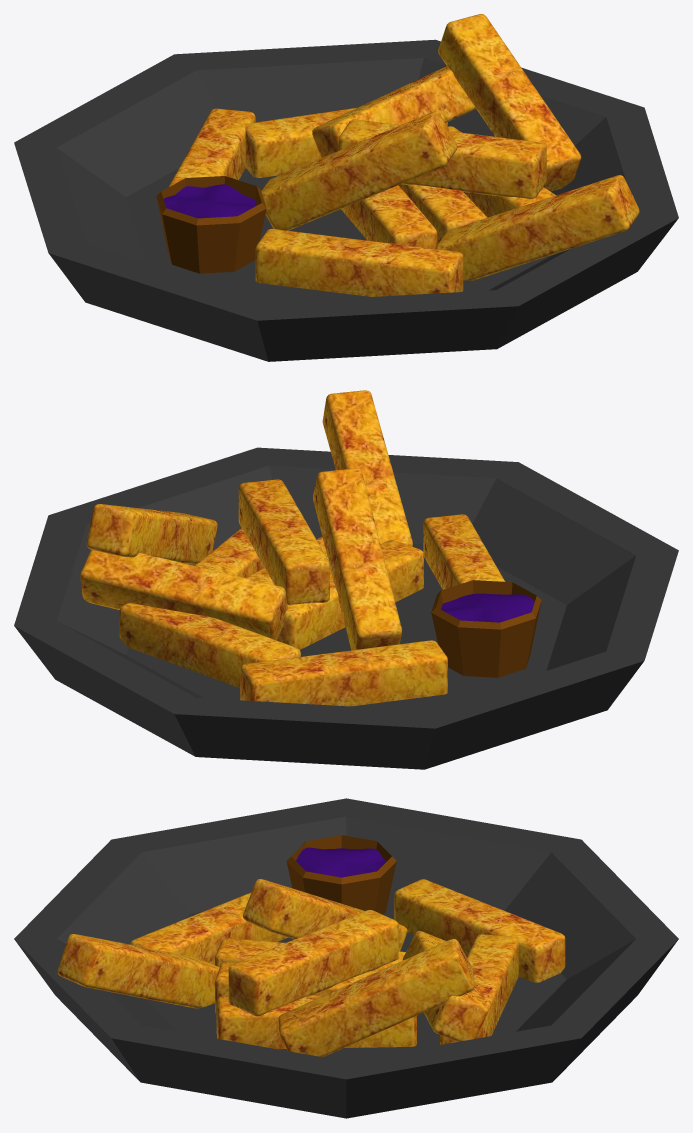
File: wolf sticks with dryad sauce.fbx
3 views of the same model, one above another, from view 1: azimuth 30°, elevation 25°; view 2: azimuth 150°, elevation 25°; view 3: azimuth 270°, elevation 25° (orthographic). The views are drawn at different scales.
Visible parts, largest first — view 1: plate; view 2: plate; view 3: plate.
Boxes of the visible parts, x1,y1,x2,y2 form: plate: (14,14,678,361); plate: (14,390,678,769); plate: (14,798,678,1118).
Bounding box in the file's own units: 302 × 74.63 × 302.
